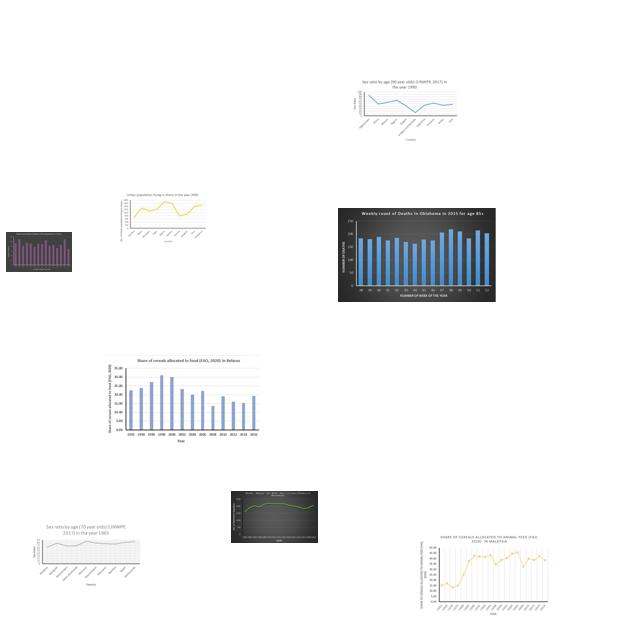Graph: (338, 208, 496, 302), (105, 355, 262, 445), (418, 533, 551, 616), (30, 523, 142, 587), (351, 78, 458, 142), (119, 192, 207, 244), (231, 491, 318, 543), (6, 232, 72, 272)
